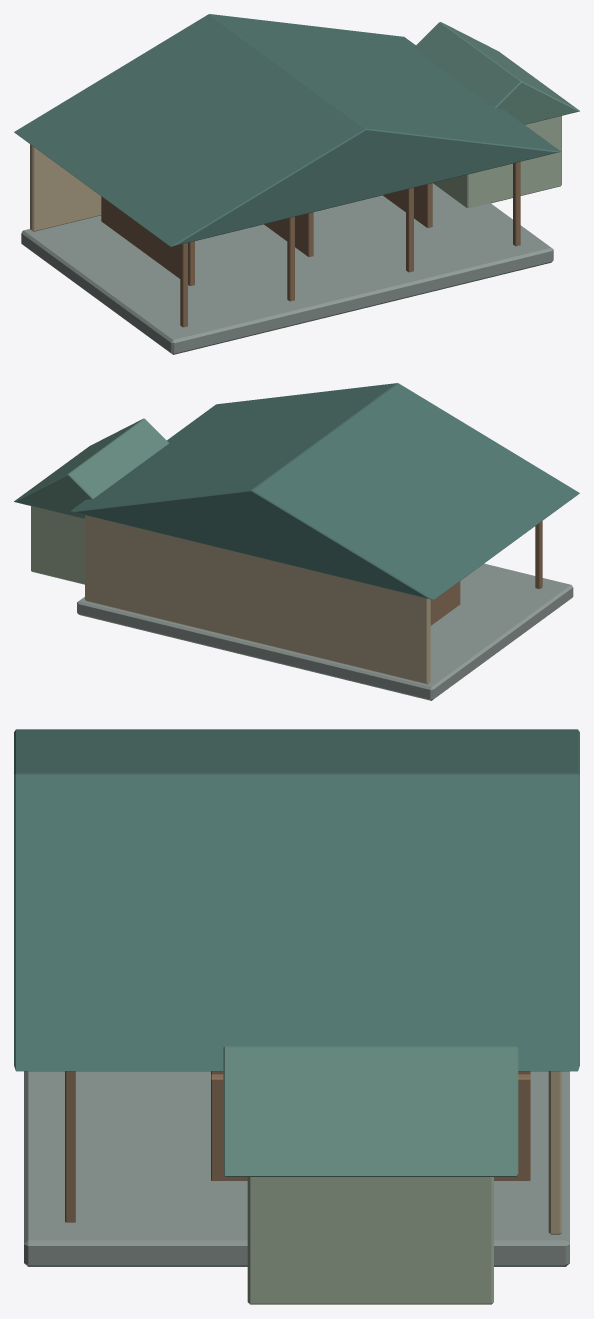
Rendered from LumenOpenStable.glb.
3 renders of one model, top to bottom at view 1: azimuth 30°, elevation 25°; view 2: azimuth 150°, elevation 25°; view 3: azimuth 270°, elevation 25°, orthographic. The views are drawn at different scales.
Parts seen in each view (by area): view 1: LumenOpenStable; view 2: LumenOpenStable; view 3: LumenOpenStable.
Part boxes in pixels (left/top/right/bottom): LumenOpenStable: left=14, top=14, right=579, bottom=354; LumenOpenStable: left=14, top=383, right=579, bottom=700; LumenOpenStable: left=14, top=729, right=579, bottom=1304.
Bounding box in the file's own units: 39.36 × 14.67 × 23.
